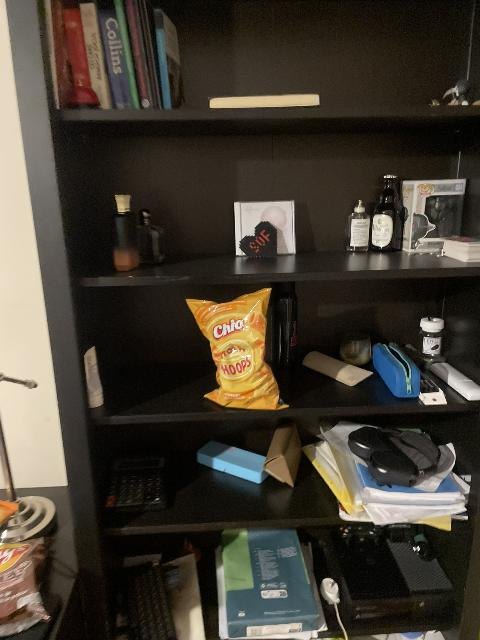Chio Hula Hoops Cheese 70g: (190, 291, 288, 407)
Lays Beef Grilled Ribs 125g: (1, 534, 53, 636)
